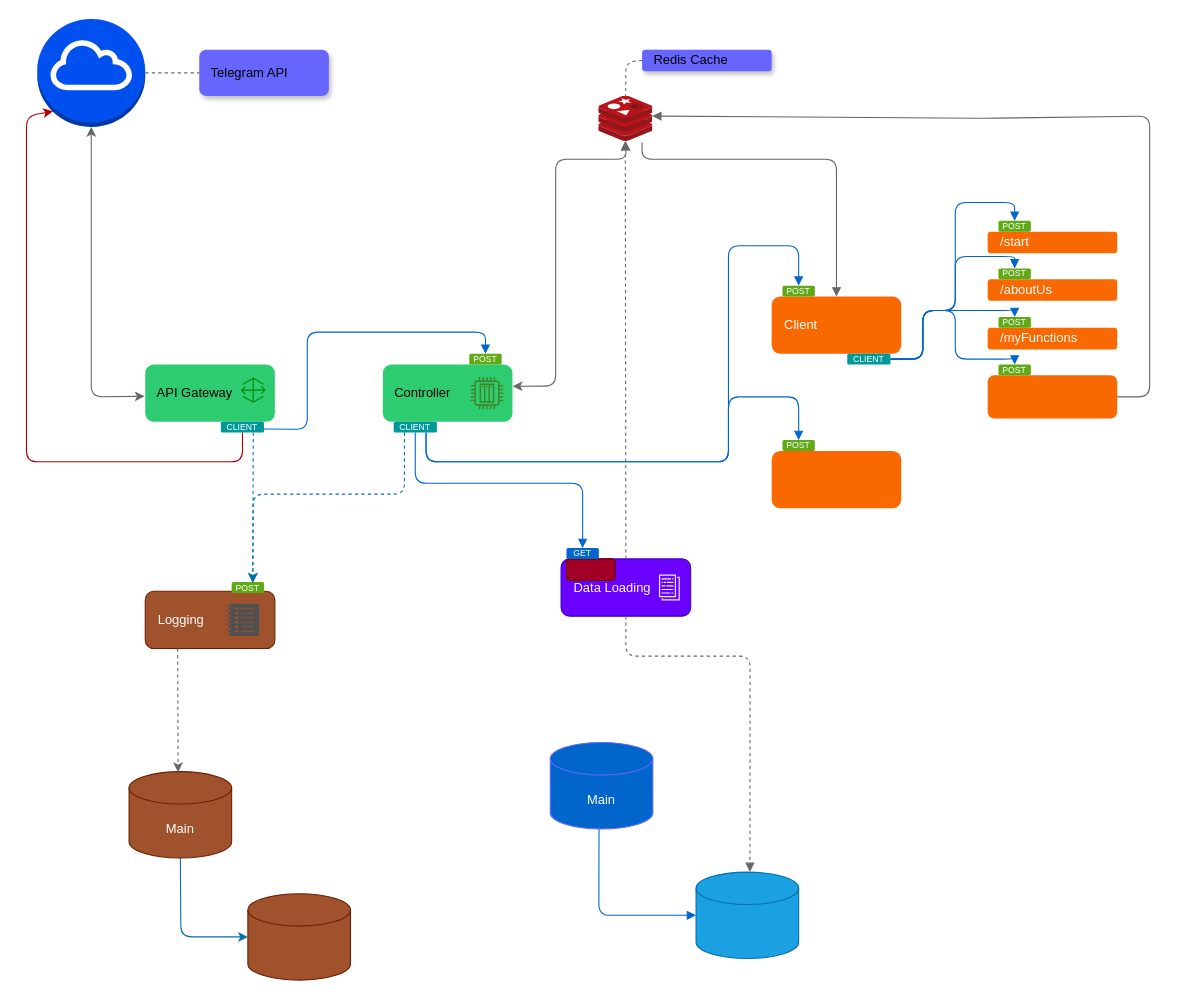
Some shapes in this 1177 by 999 pixel diagram are drawn without their labels. The centre of each missing label's shape, as x and y in pixels:
/openAccount: [1052,396]
Replica: [298,936]
Replica A: [747,915]
SESSION: [590,569]
Starting: [836,479]
